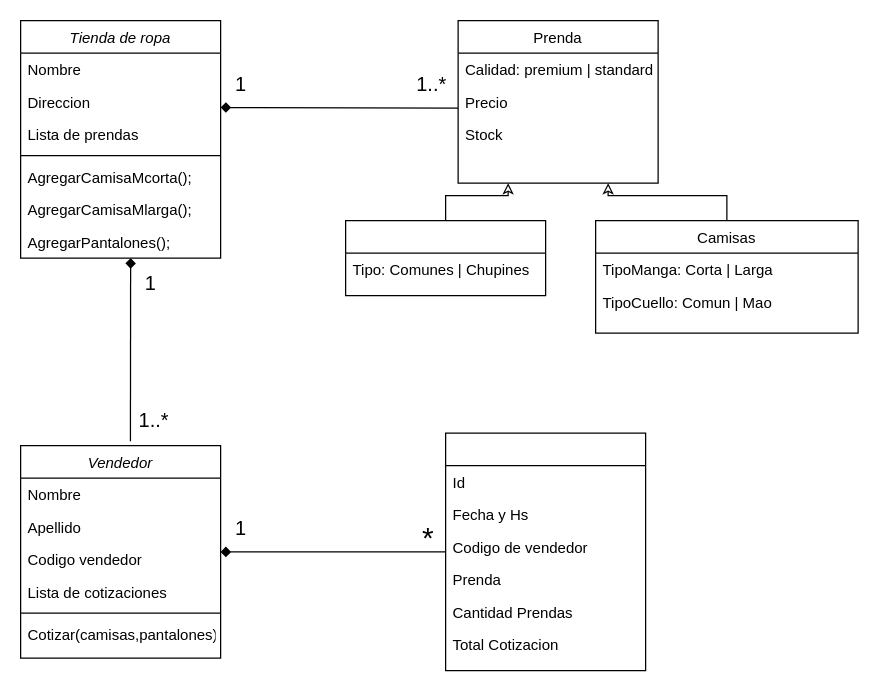
Image size: 879x691. Some labels were removed from this diagram. Here are the shapes that lost their labels. From the top down, the box of each, then its label:
(344, 219, 546, 296): Pantalon
(444, 432, 646, 671): Cotizaciones
